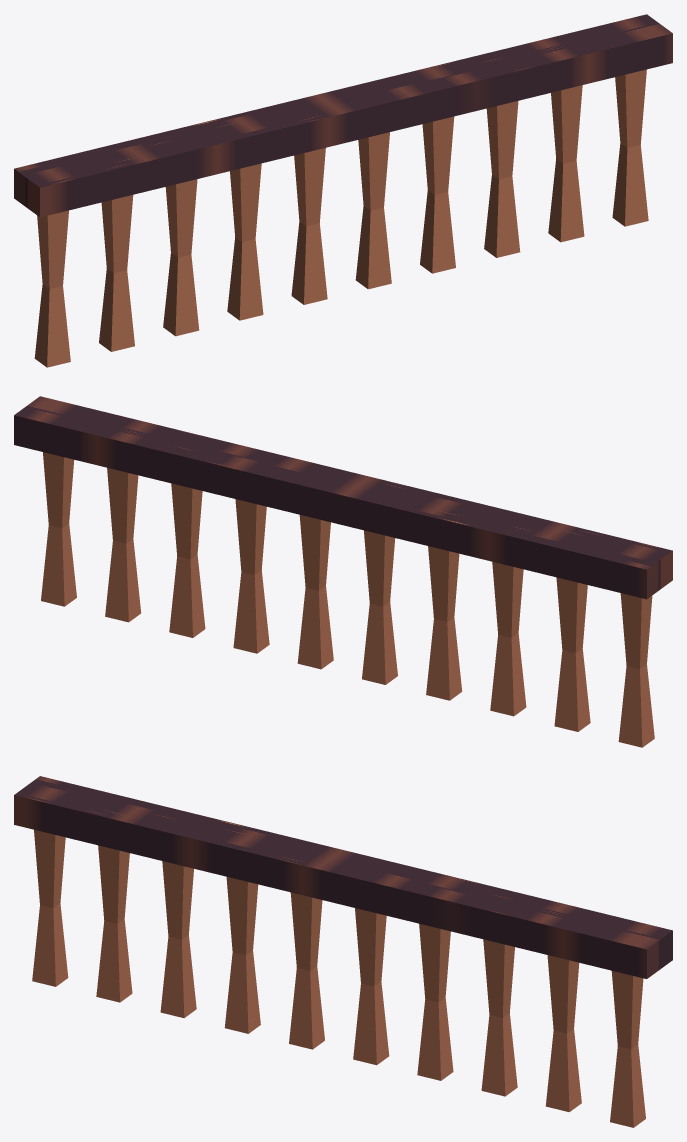
File: Corrimao.fbx
3 renders of one model, top to bottom at view 1: azimuth 30°, elevation 25°; view 2: azimuth 150°, elevation 25°; view 3: azimuth 330°, elevation 25°, orthographic.
Visible parts, largest first — view 1: Corrimao; view 2: Corrimao; view 3: Corrimao.
Boxes of the visible parts, x1,y1,x2,y2 form: Corrimao: (14, 14, 672, 367); Corrimao: (14, 396, 672, 747); Corrimao: (14, 776, 672, 1127).
Size of the model in its own units: 335 by 23.92 by 94.59.
